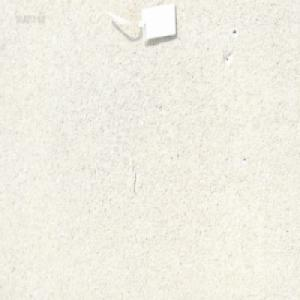LuggageTag: (101, 1, 177, 48)
